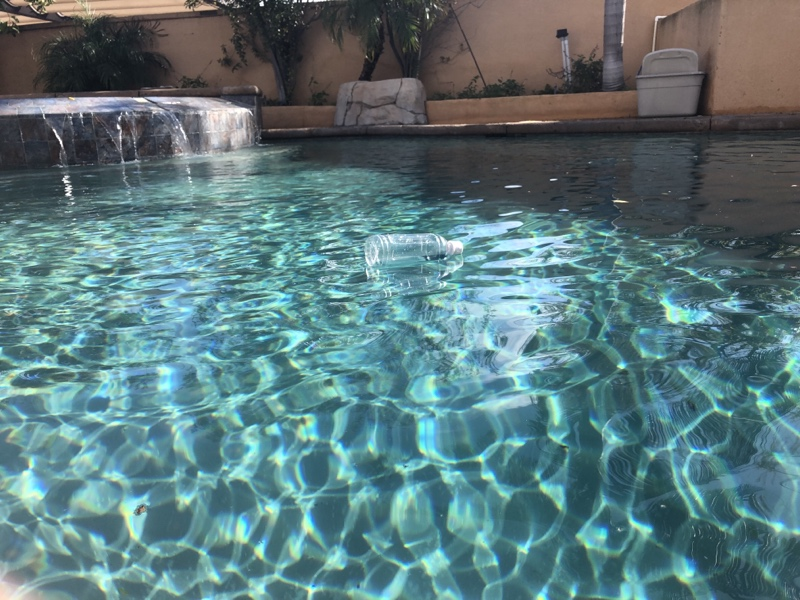Plastic Bottle: (360, 228, 465, 274)
